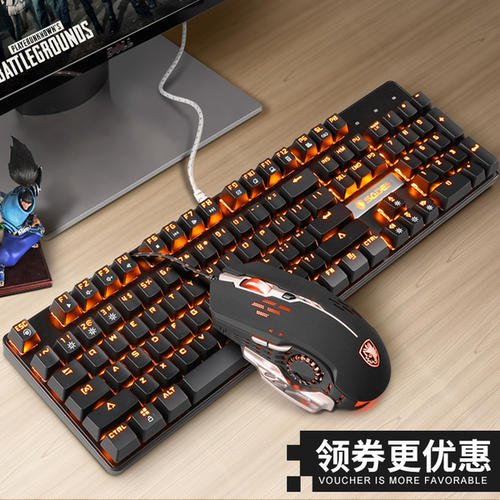keyboard: (5, 79, 495, 471)
mouse: (205, 260, 392, 416)
